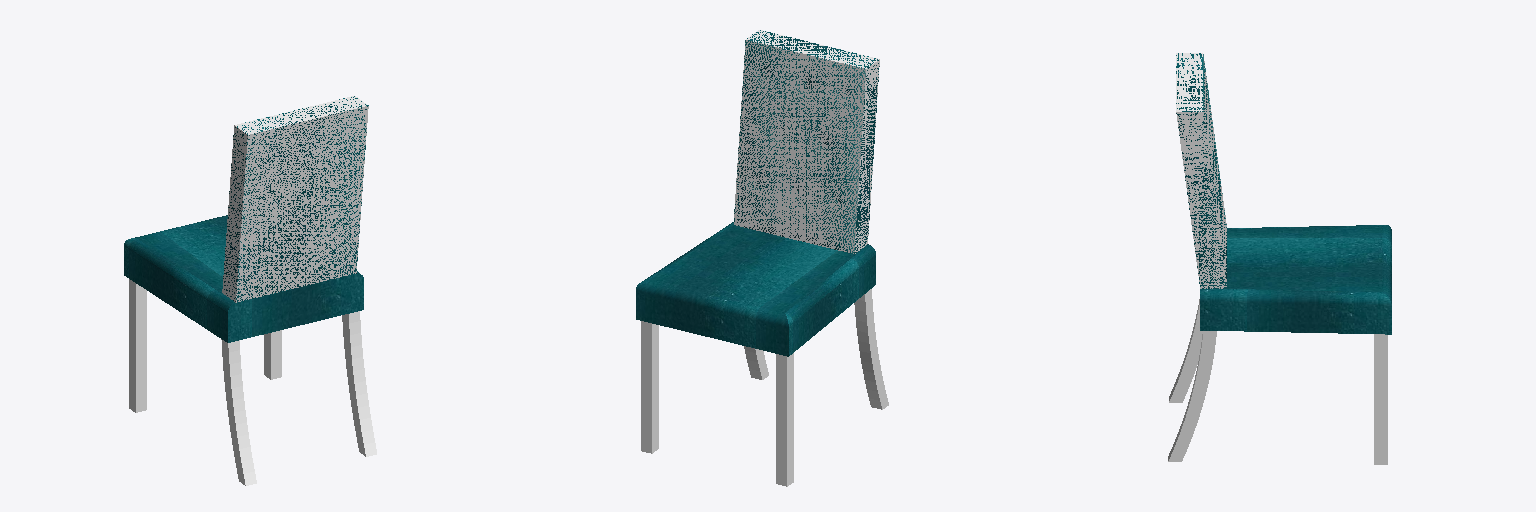
3 renders of one model, left to right at view 1: azimuth 30°, elevation 25°; view 2: azimuth 150°, elevation 25°; view 3: azimuth 270°, elevation 25°, orthographic.
Parts seen in each view (by area): view 1: mesh9_mesh9-geometry, mesh8_mesh8-geometry, mesh1_mesh1-geometry, mesh6_mesh6-geometry, mesh3_mesh3-geometry, mesh4_mesh4-geometry; view 2: mesh9_mesh9-geometry, mesh8_mesh8-geometry, mesh3_mesh3-geometry, mesh4_mesh4-geometry, mesh1_mesh1-geometry, mesh6_mesh6-geometry; view 3: mesh8_mesh8-geometry, mesh9_mesh9-geometry, mesh6_mesh6-geometry, mesh4_mesh4-geometry, mesh1_mesh1-geometry.
Boxes of the visible parts, box(x1,y1,x2,y2) form: mesh9_mesh9-geometry: box(222, 96, 368, 302); mesh8_mesh8-geometry: box(124, 215, 363, 342); mesh1_mesh1-geometry: box(221, 339, 256, 485); mesh6_mesh6-geometry: box(342, 311, 376, 456); mesh3_mesh3-geometry: box(129, 279, 146, 412); mesh4_mesh4-geometry: box(264, 330, 281, 379); mesh9_mesh9-geometry: box(734, 30, 879, 253); mesh8_mesh8-geometry: box(636, 222, 875, 356); mesh3_mesh3-geometry: box(776, 353, 793, 486); mesh4_mesh4-geometry: box(641, 321, 658, 453); mesh1_mesh1-geometry: box(854, 289, 888, 409); mesh6_mesh6-geometry: box(744, 346, 768, 379); mesh8_mesh8-geometry: box(1200, 225, 1391, 334); mesh9_mesh9-geometry: box(1176, 53, 1226, 288); mesh6_mesh6-geometry: box(1168, 331, 1216, 461); mesh4_mesh4-geometry: box(1374, 334, 1387, 464); mesh1_mesh1-geometry: box(1169, 299, 1202, 402).
Size of the model in its own units: 0.3707 by 0.8023 by 0.4679.
Materials: 5 (2 with a texture image).